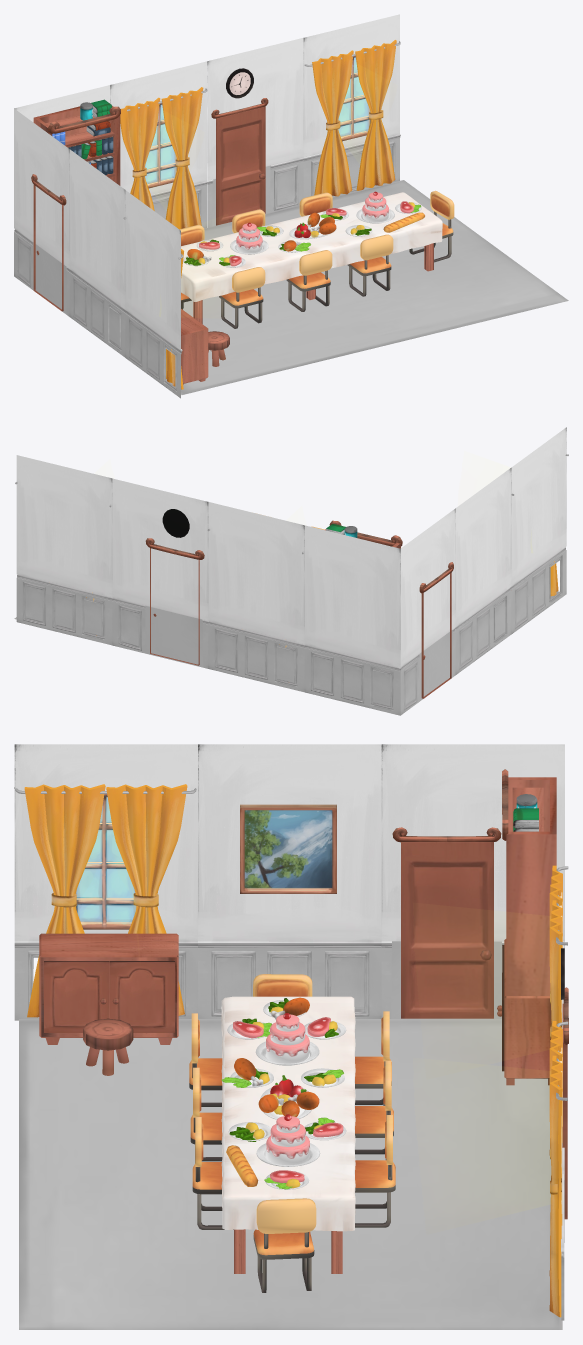
3 views of the same model, one above another, from view 1: azimuth 30°, elevation 25°; view 2: azimuth 150°, elevation 25°; view 3: azimuth 270°, elevation 25° (orthographic). The views are drawn at different scales.
Visible parts, largest first — view 1: Plane.004_2, Plane_0, Plane.033_24, Cube_11, Plane.013_9, Plane.006_5, Plane.003_1, Plane.010_7, Plane.011_10, Cube.011_25, Cube.003_56, Plane.014_62 (+14 smaller); view 2: Plane.004_2, Plane.003_1, Plane.006_5, Plane.033_24, Plane.001_3, Plane.011_10, Circle.003_58, Plane.007_57; view 3: Plane_0, Plane.004_2, Plane.033_24, Cube_11, Plane.001_3, Plane.031_23, Cube.003_56, Cube.011_25, Plane.020_68, Plane.030_22, Plane.018_65, Plane.013_9 (+16 smaller).
Boxes of the visible parts, box(x1,y1,x2,y2) form: Plane.004_2: box(14, 38, 304, 357); Plane_0: box(166, 180, 568, 394); Plane.033_24: box(125, 190, 182, 398); Cube_11: box(181, 192, 442, 323); Plane.013_9: box(304, 40, 400, 196); Plane.006_5: box(303, 14, 400, 197); Plane.003_1: box(14, 61, 207, 231); Plane.010_7: box(120, 87, 207, 229); Plane.011_10: box(211, 98, 268, 225); Cube.011_25: box(33, 105, 120, 185); Cube.003_56: box(181, 309, 208, 384); Plane.014_62: box(219, 267, 265, 328); Plane.004_2: box(112, 468, 511, 715); Plane.003_1: box(208, 502, 401, 715); Plane.006_5: box(16, 455, 112, 645); Plane.033_24: box(510, 427, 566, 634); Plane.001_3: box(419, 562, 453, 698); Plane.011_10: box(145, 538, 204, 665); Circle.003_58: box(162, 509, 189, 537); Plane.007_57: box(329, 520, 402, 546); Plane_0: box(19, 1019, 562, 1329); Plane.004_2: box(198, 744, 564, 1242); Plane.033_24: box(14, 744, 197, 1020); Cube_11: box(221, 996, 355, 1273); Plane.001_3: box(392, 827, 501, 1018); Plane.031_23: box(14, 784, 196, 1017); Cube.003_56: box(39, 933, 178, 1044); Cube.011_25: box(497, 777, 556, 1085); Plane.020_68: box(240, 804, 336, 893); Plane.030_22: box(76, 794, 136, 929); Plane.018_65: box(253, 1198, 316, 1292); Plane.013_9: box(549, 1021, 568, 1317).
Bounding box in the file's own units: 4.03 × 1.65 × 3.
2 materials, 2 textured.
